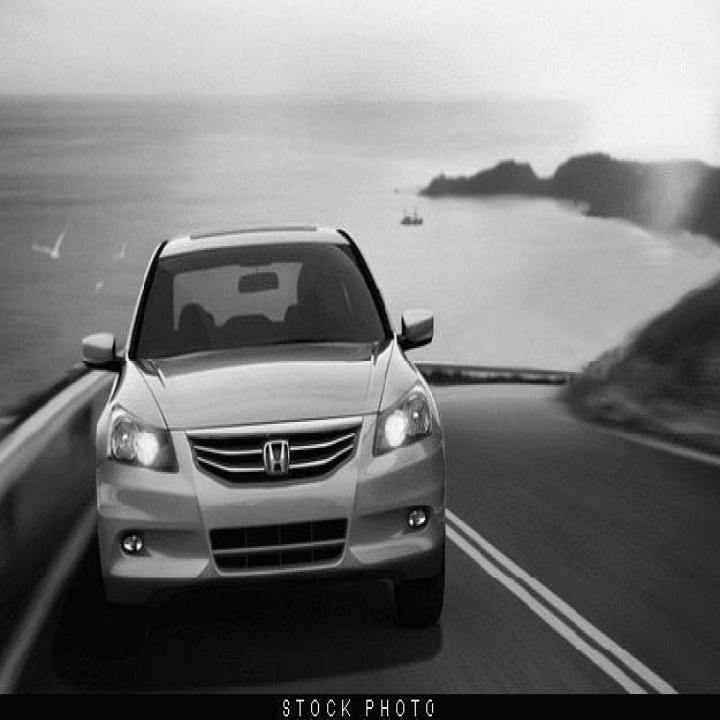car: (80, 222, 445, 628)
